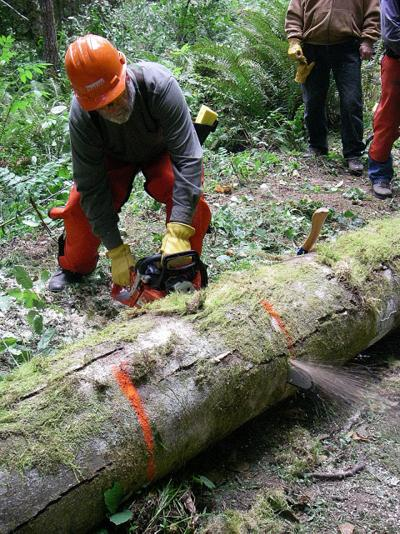person: (50, 34, 213, 310)
